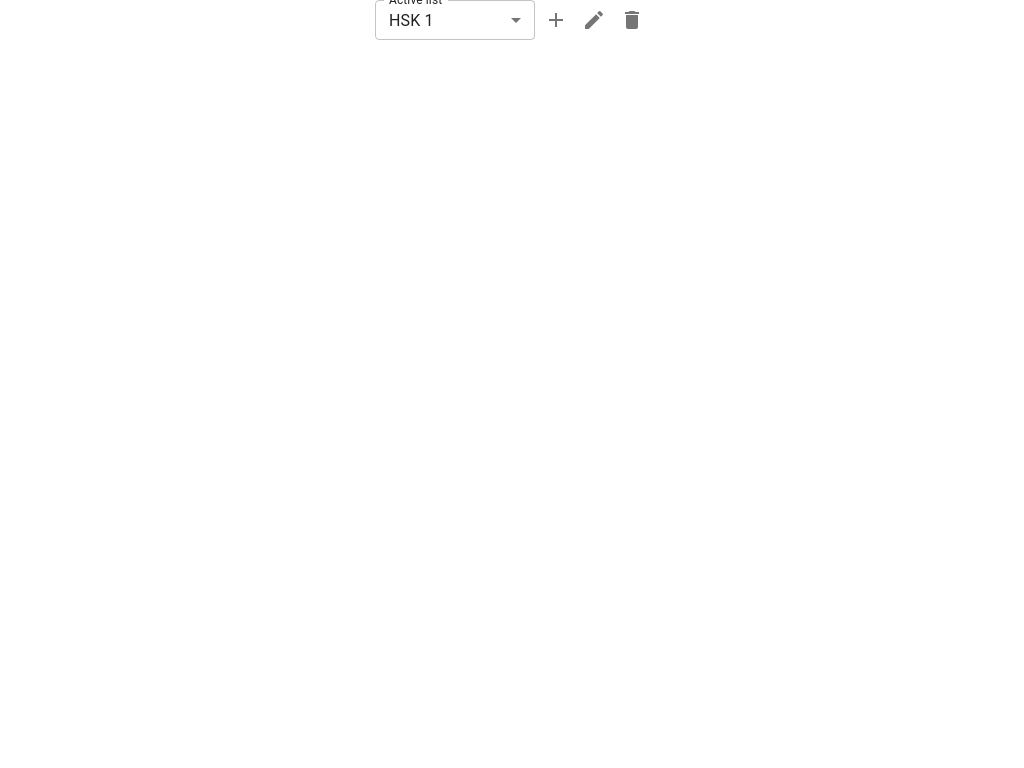
Test case: ListSelector › create list dialog › closes the dialog when Cancel is clicked
Click the button named "Create new list": (556, 20) [539,3,573,37]
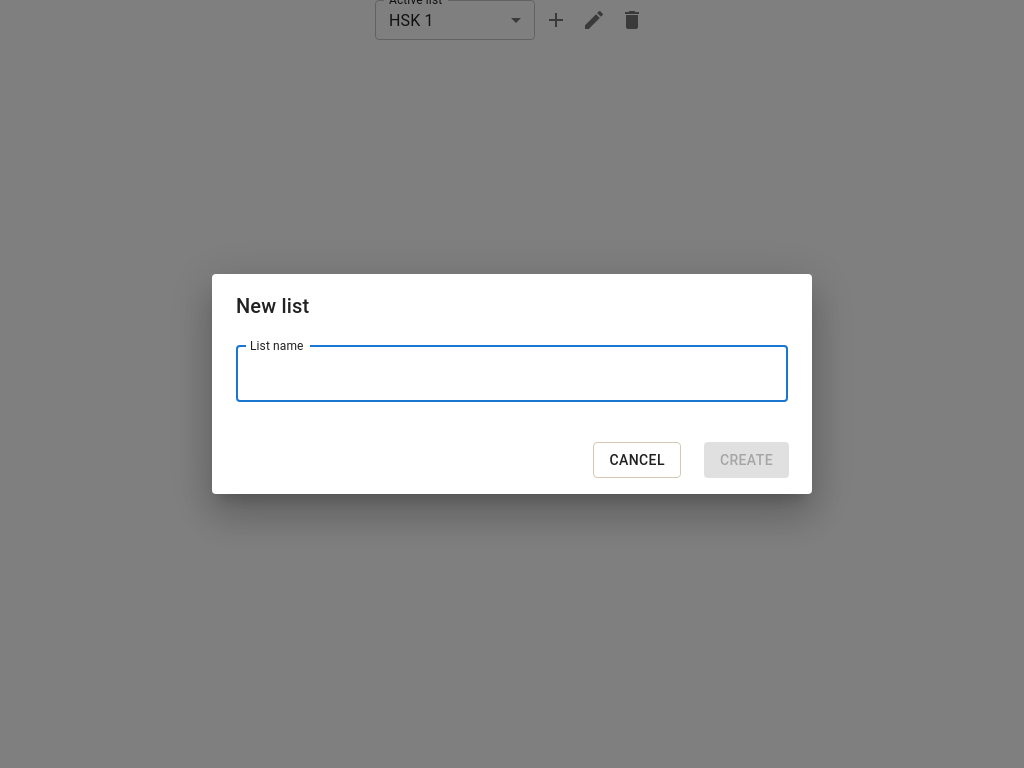
Check: the dialog "New list List name Cancel Create" is shown, box [212,274,812,494]
Click the button "Cancel": (637, 460) [593,442,681,478]
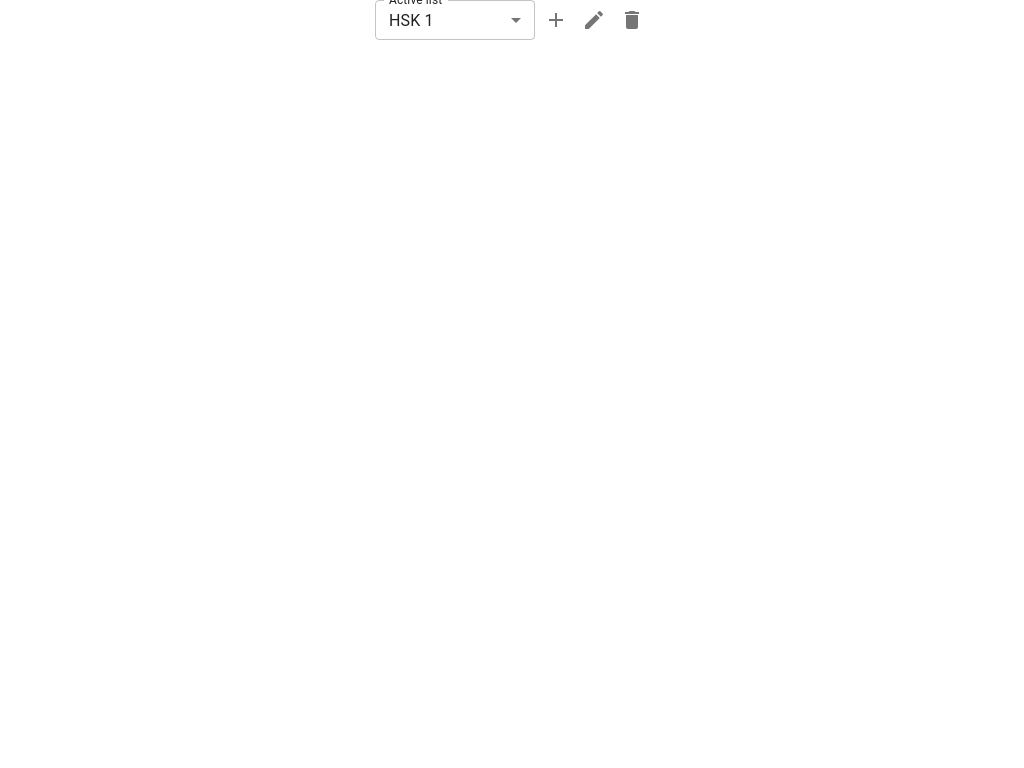
Check: the heading "New list" is gone
